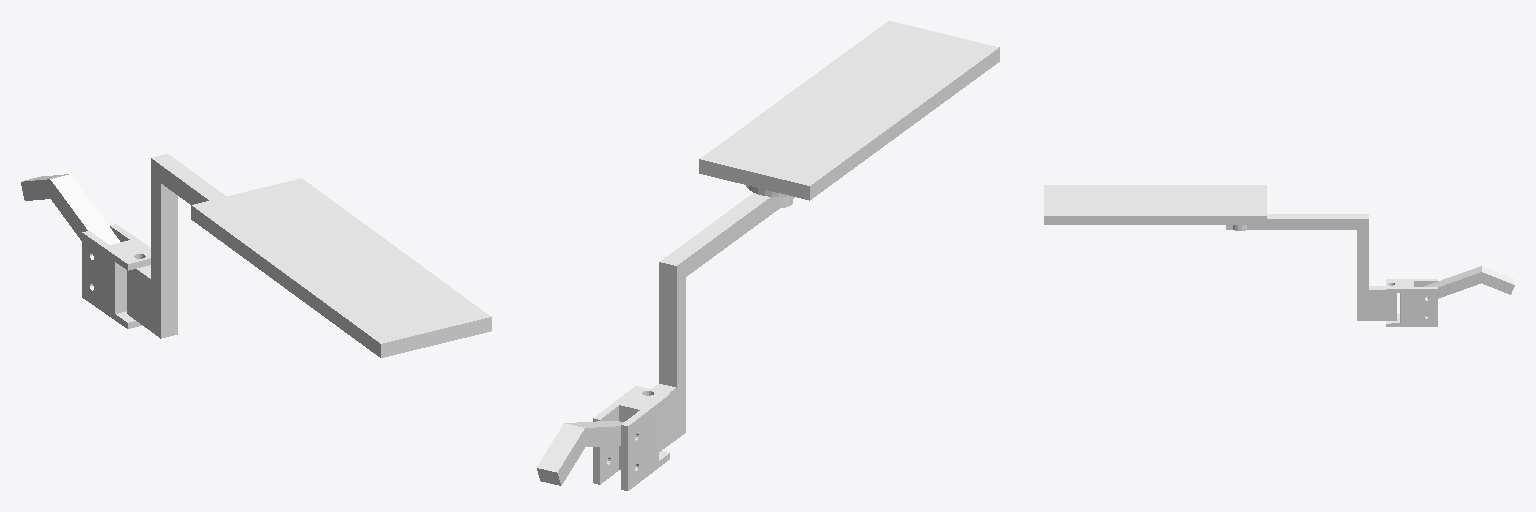
robot.urdf — r2Arm:
<?xml version="1.0" encoding="utf-8"?>
<!-- This URDF was automatically created by SolidWorks to URDF Exporter! Originally created by [author] ([email redacted]) 
     Commit Version: 1.6.0-4-g7f85cfe  Build Version: 1.6.7995.38578
     For more information, please see http://wiki.ros.org/sw_urdf_exporter -->
<robot
  name="r2Arm">
  <link
    name="base_link">
    <visual>
      <origin
        xyz="0 0 0"
        rpy="0 0 0" />
      <geometry>
        <mesh
          filename="package://r2_arm_test_01/meshes/base_link.STL" />
      </geometry>
      <material
        name="">
        <color
          rgba="1 1 1 1" />
      </material>
    </visual>
  </link>
  <link
    name="Link1">
    <visual>
      <origin
        xyz="0 0 0"
        rpy="0 0 0" />
      <geometry>
        <mesh
          filename="package://r2_arm_test_01/meshes/Link1.STL" />
      </geometry>
      <material
        name="">
        <color
          rgba="1 1 1 1" />
      </material>
    </visual>
  </link>
  <joint
    name="joint1"
    type="continuous">
    <origin
      xyz="0 0.18031 -0.0183"
      rpy="1.5703 1.5708 0" />
    <parent
      link="base_link" />
    <child
      link="Link1" />
    <axis
      xyz="1 0 0" />
  </joint>
  <link
    name="Link2">
    <visual>
      <origin
        xyz="0 0 0"
        rpy="0 0 0" />
      <geometry>
        <mesh
          filename="package://r2_arm_test_01/meshes/Link2.STL" />
      </geometry>
      <material
        name="">
        <color
          rgba="1 1 1 1" />
      </material>
    </visual>
  </link>
  <joint
    name="joint2"
    type="continuous">
    <origin
      xyz="0.159 0 -0.324"
      rpy="0.020886 0 -3.1416" />
    <parent
      link="Link1" />
    <child
      link="Link2" />
    <axis
      xyz="-1 0 0" />
  </joint>
  <link
    name="Link3">
    <visual>
      <origin
        xyz="0 0 0"
        rpy="0 0 0" />
      <geometry>
        <mesh
          filename="package://r2_arm_test_01/meshes/Link3.STL" />
      </geometry>
      <material
        name="">
        <color
          rgba="1 1 1 1" />
      </material>
    </visual>
  </link>
  <joint
    name="joint3"
    type="revolute">
    <origin
      xyz="-0.024 0 -0.075"
      rpy="0 -0.36369 0" />
    <parent
      link="Link2" />
    <child
      link="Link3" />
    <axis
      xyz="0 -1 0" />
    <limit effort="1000.0" lower="0.0" 
    upper="1.57" velocity="0.5"/>

  </joint>
  
  
</robot>

--- Render facts (derived) ---
3 views of the same robot in one strip: view 1: azimuth 30°, elevation 25°; view 2: azimuth 150°, elevation 25°; view 3: azimuth 270°, elevation 25° (orthographic).
Robot: r2Arm — 4 links, 3 joints (1 revolute, 2 continuous); root link base_link; default pose: all joints at 0.
Links seen in each view (by area): view 1: base_link, Link1, Link2, Link3; view 2: base_link, Link1, Link2, Link3; view 3: base_link, Link1, Link2, Link3.
Link boxes in pixels (bbox=[...]): base_link: bbox=[191, 178, 491, 357]; Link1: bbox=[127, 154, 226, 338]; Link2: bbox=[82, 224, 150, 328]; Link3: bbox=[21, 174, 119, 244]; base_link: bbox=[699, 21, 999, 200]; Link1: bbox=[651, 193, 794, 451]; Link2: bbox=[593, 386, 669, 490]; Link3: bbox=[537, 421, 623, 485]; base_link: bbox=[1044, 185, 1266, 224]; Link1: bbox=[1226, 214, 1396, 320]; Link2: bbox=[1386, 279, 1437, 326]; Link3: bbox=[1424, 266, 1514, 298].
Size in the robot's own frame: 0.16 by 1.01 by 0.2883 metres.
4 mesh visuals loaded from 4 distinct referenced files (4 binary STL).